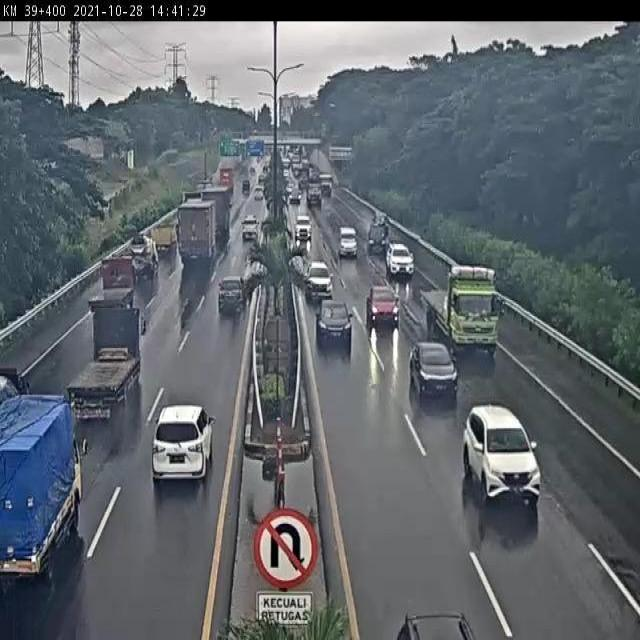car: (462, 404, 541, 505), (152, 404, 214, 485), (409, 342, 458, 402), (315, 299, 352, 345), (366, 286, 399, 331), (218, 274, 246, 314), (305, 261, 334, 299), (386, 243, 415, 277), (338, 225, 358, 256), (368, 227, 386, 252), (242, 214, 259, 238)
mid truck: (177, 199, 217, 260)
small truck: (150, 223, 177, 256)
truck-l-: (420, 262, 500, 354)
truck-m-: (0, 393, 90, 584), (66, 307, 142, 420), (87, 255, 135, 312), (127, 234, 160, 282)
